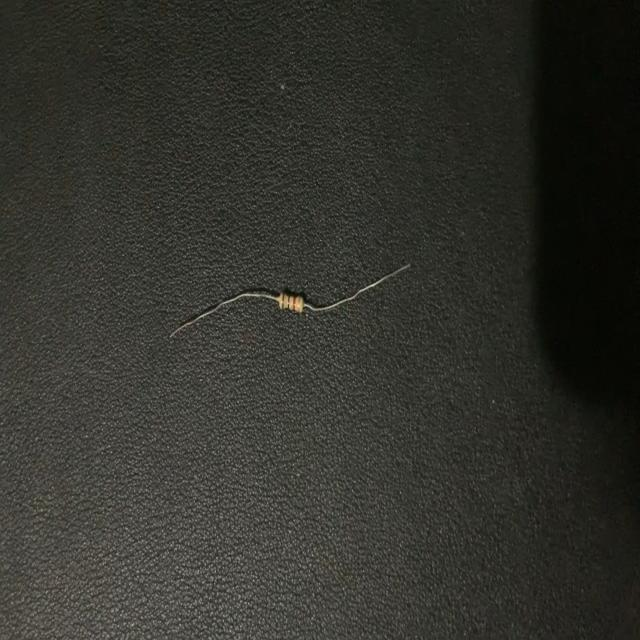resistor: (170, 254, 412, 344)
